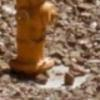a fire hydrant: (8, 0, 53, 78)
